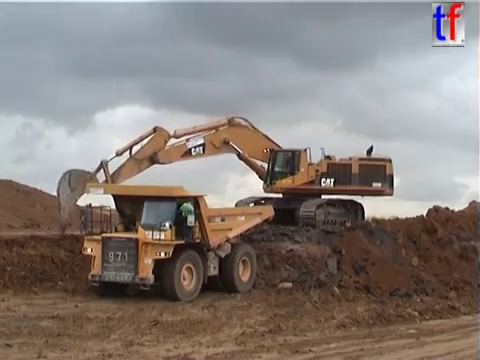excavator: (54, 114, 397, 236)
truck: (78, 180, 277, 303)
worker: (178, 195, 198, 242)
